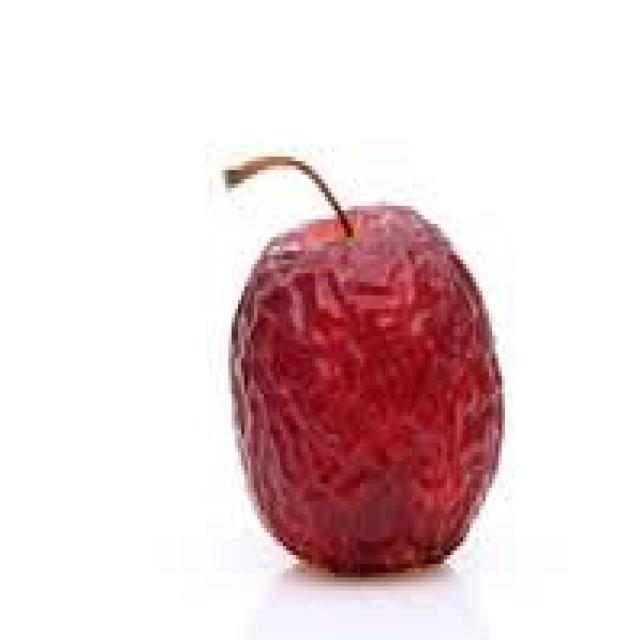organic waste: (216, 152, 498, 578)
